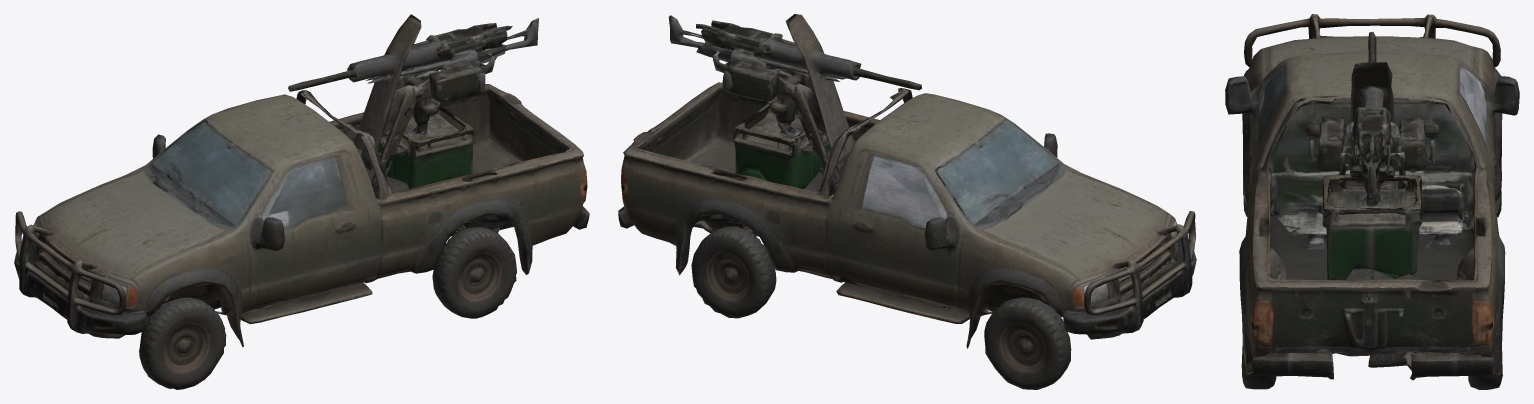
The model's file is truck.glb.
The picture shows the model from 3 angles, left to right: view 1: azimuth 30°, elevation 25°; view 2: azimuth 150°, elevation 25°; view 3: azimuth 270°, elevation 25°; orthographic projection. The views are drawn at different scales.
Size of the model in its own units: 0.9978 by 0.5072 by 0.4266.
1 material, 1 textured.
